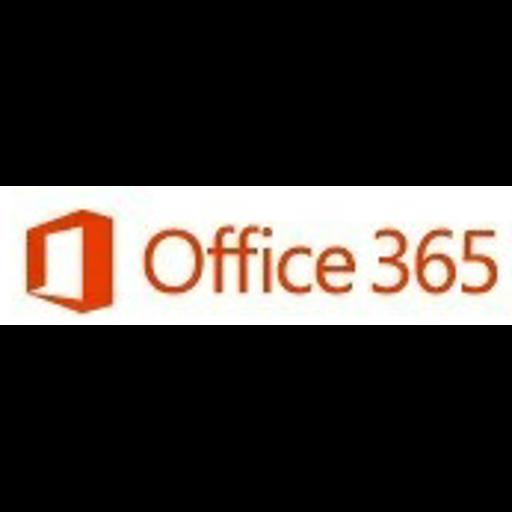Outlook: (0, 186, 512, 325)
